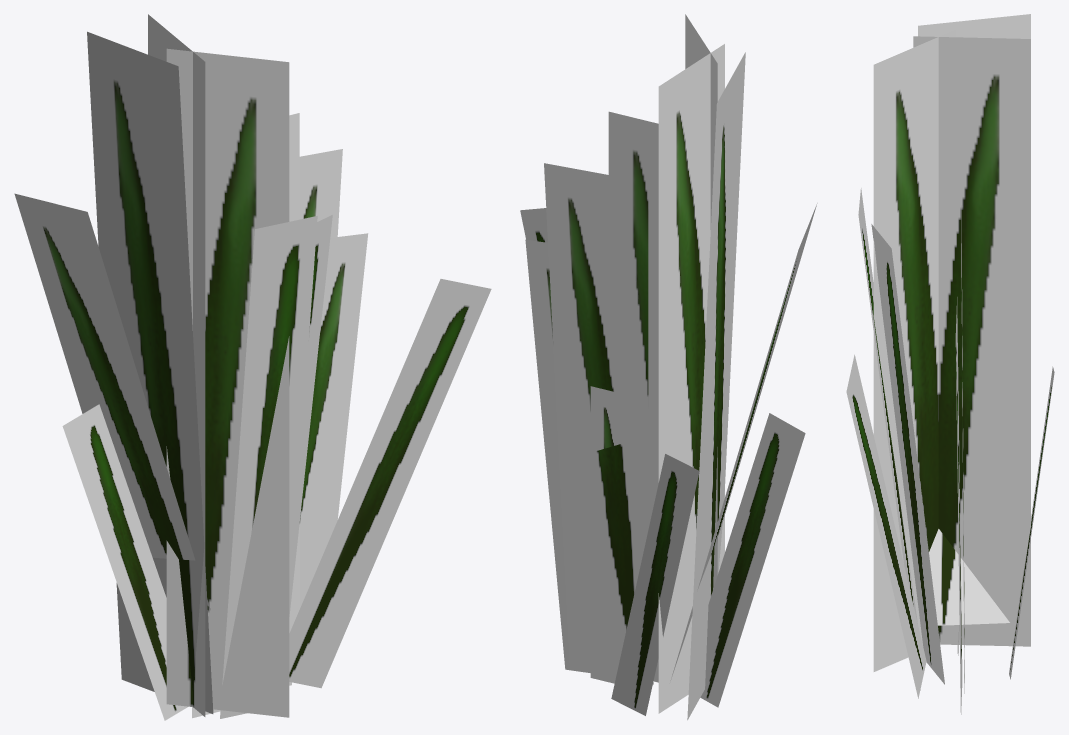
The model's file is co xanh.fbx.
3 renders of one model, left to right at view 1: azimuth 30°, elevation 25°; view 2: azimuth 150°, elevation 25°; view 3: azimuth 270°, elevation 25°, orthographic. The views are drawn at different scales.
Visible parts, largest first — view 1: Plane.116; view 2: Plane.116; view 3: Plane.116.
Part boxes in pixels (<box>): Plane.116: <box>14,14,491,720</box>; Plane.116: <box>520,14,817,720</box>; Plane.116: <box>846,14,1054,714</box>.
Bounding box in the file's own units: 26.81 × 44.87 × 13.58.
